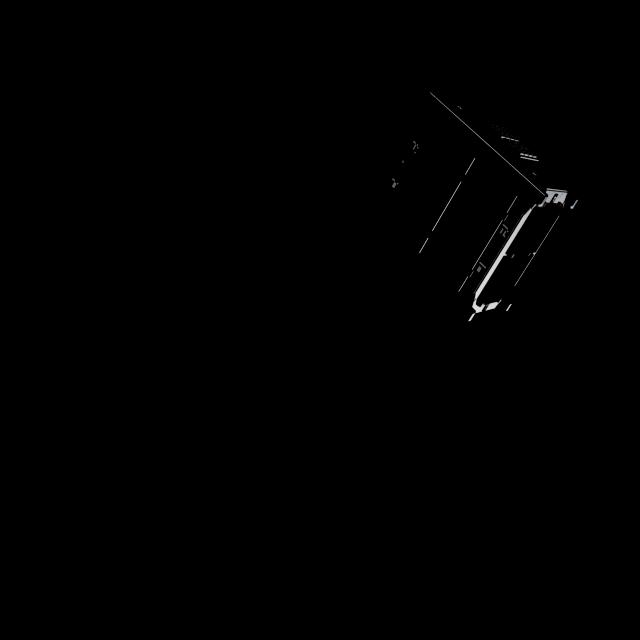medium_debris: (348, 80, 582, 339)
